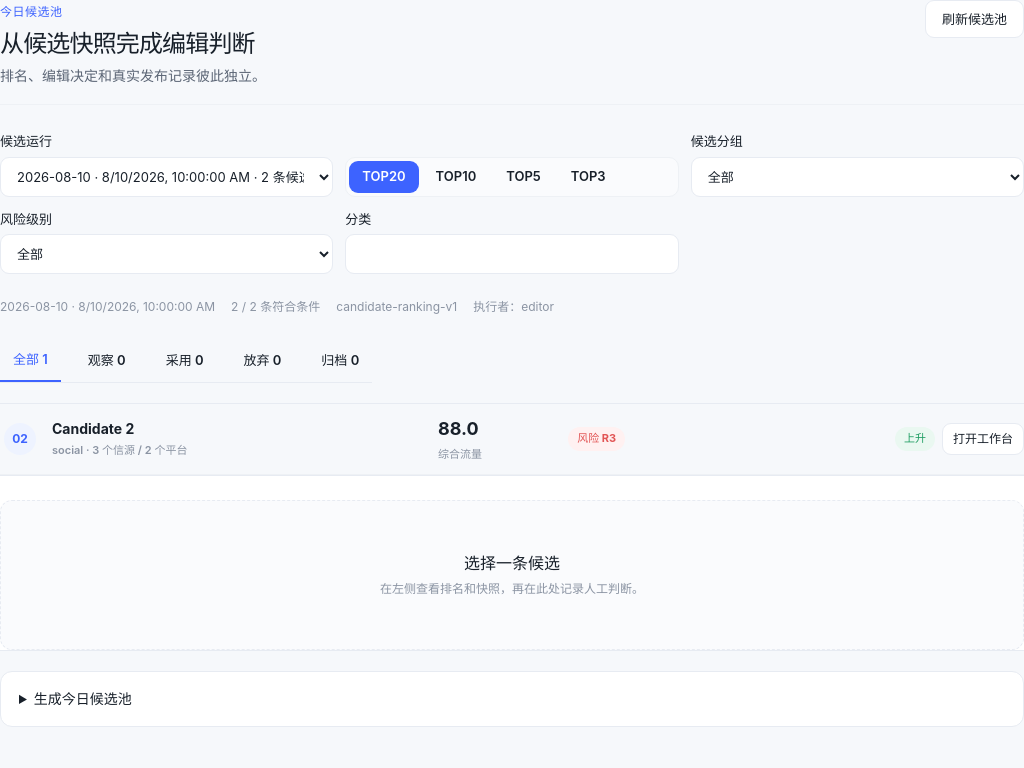
Test case: requires risk acknowledgement for R3 adopt and keeps apply disabled without Actor
The image size is (1024, 768).
Expected: the text "Candidate 2" is shown, [52, 420, 134, 437]
Click the button "02 Candidate 2 social · 3 个信源 / 2 个平台 88.0 综合流量 风险 R3" at (442, 439), box [0, 411, 883, 467]
(page scrolled)
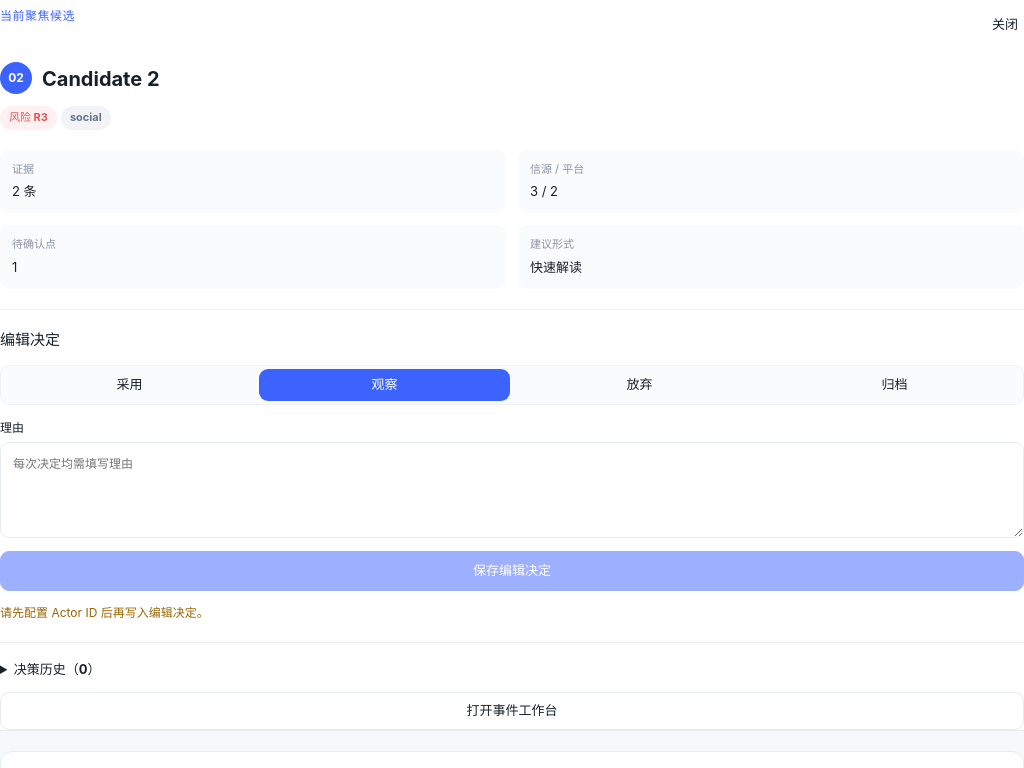
Click the button "采用" at (130, 385), box [4, 369, 255, 401]
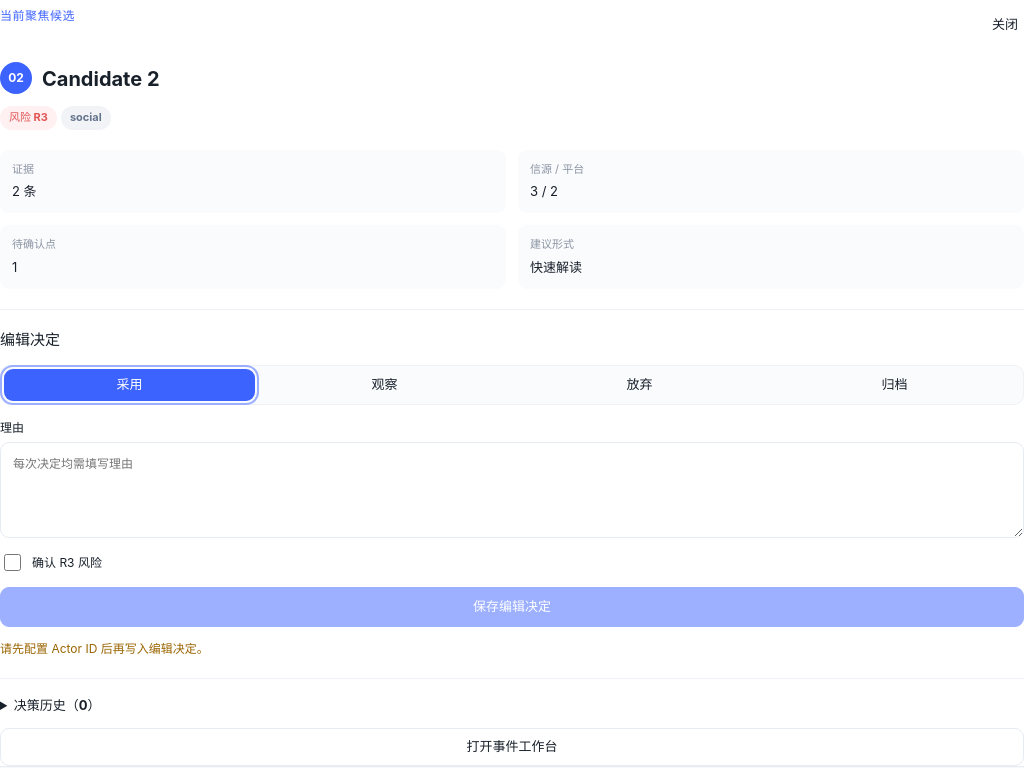
Now the button "保存编辑决定" is disabled, box [0, 587, 1023, 627]
Now the checkbox named "风险确认" is shown, box [4, 554, 21, 571]
